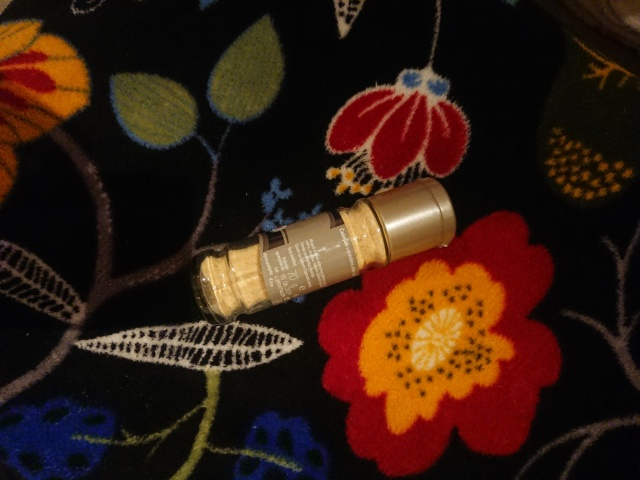Kotanyi Garlic Granules 70g: (186, 175, 460, 329)
